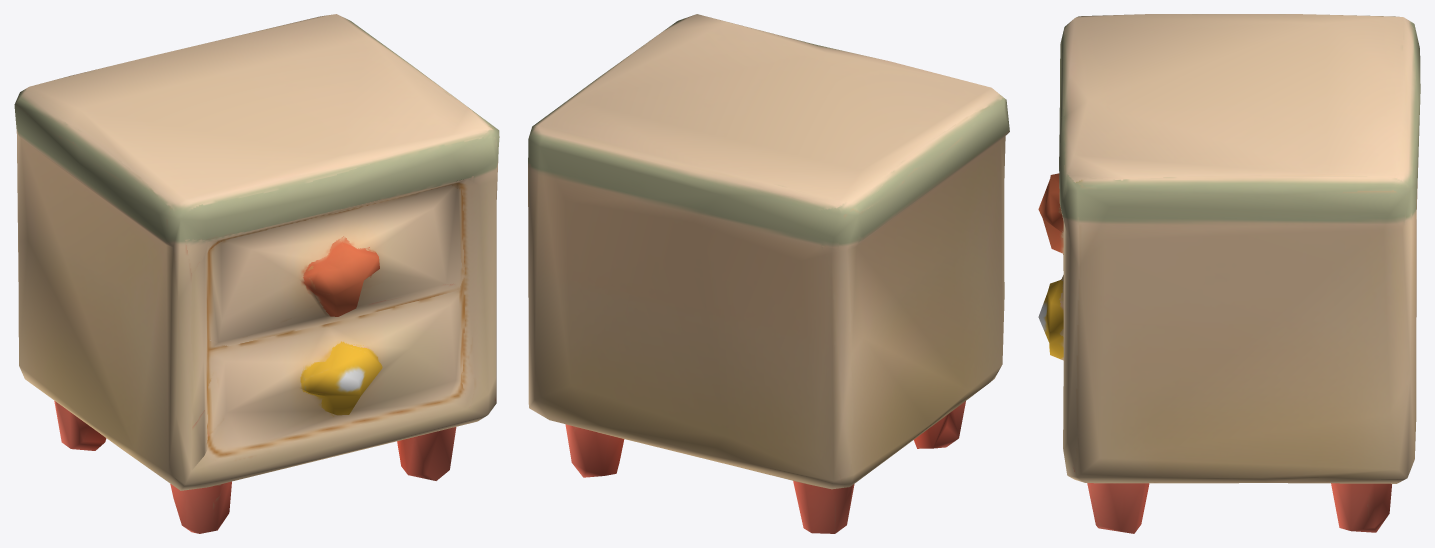
File: floral-nightstand.glb
The picture shows the model from 3 angles, left to right: view 1: azimuth 30°, elevation 25°; view 2: azimuth 150°, elevation 25°; view 3: azimuth 270°, elevation 25°; orthographic projection. The views are drawn at different scales.
Visible parts, largest first — view 1: geometry_0.001; view 2: geometry_0.001; view 3: geometry_0.001.
Part boxes in pixels (bbox=[...]): geometry_0.001: bbox=[14, 14, 499, 533]; geometry_0.001: bbox=[528, 14, 1009, 533]; geometry_0.001: bbox=[1038, 14, 1420, 533].
Size of the model in its own units: 0.9934 by 0.9989 by 0.9186.
Materials: 1 (1 with a texture image).
